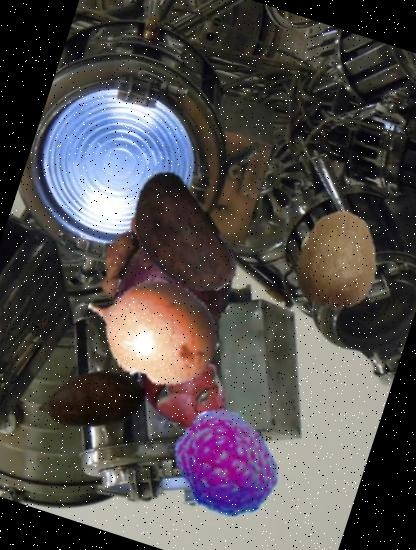Chestnut: (95, 154, 262, 320)
Granadilla: (66, 243, 237, 414)
Kiwi: (274, 196, 404, 325)
Mangostan: (80, 190, 251, 362)
Nut: (22, 332, 160, 469)
Pitahaya: (102, 298, 260, 456)
Raspberry: (155, 393, 295, 533)
